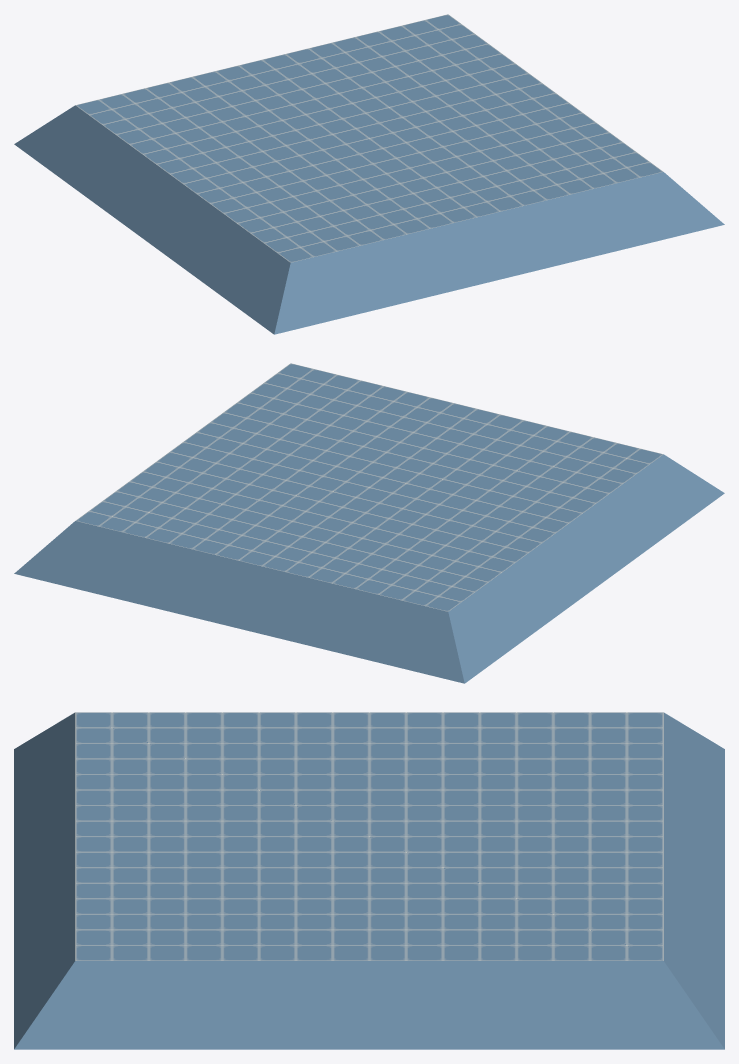
The model's file is arena.glb.
3 views of the same model, one above another, from view 1: azimuth 30°, elevation 25°; view 2: azimuth 150°, elevation 25°; view 3: azimuth 270°, elevation 25° (orthographic). The views are drawn at different scales.
Parts seen in each view (by area): view 1: Plane; view 2: Plane; view 3: Plane.
Boxes of the visible parts, left/top/right/bottom form: Plane: left=14, top=14, right=724, bottom=334; Plane: left=14, top=363, right=724, bottom=683; Plane: left=14, top=712, right=724, bottom=1049.
Bounding box in the file's own units: 13.76 × 1.34 × 13.76.
1 material, 1 textured.
